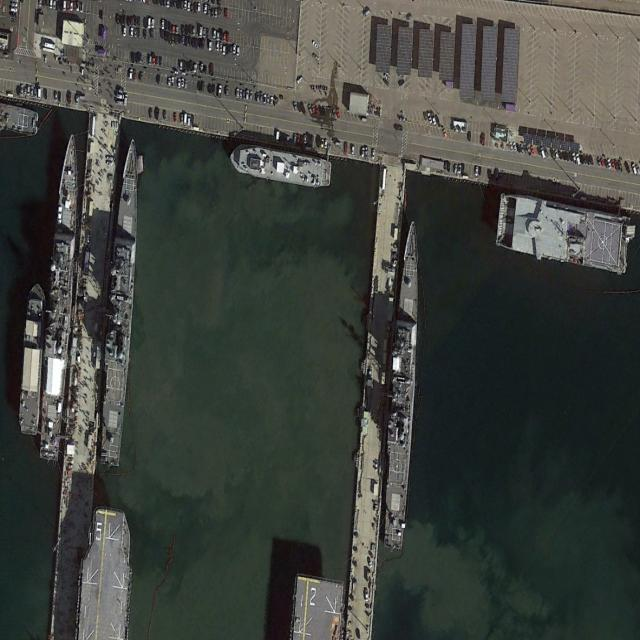Cruiser: (36, 130, 85, 463), (98, 135, 143, 471), (380, 215, 424, 553)
Other Ship: (228, 140, 332, 192), (19, 283, 46, 436)
